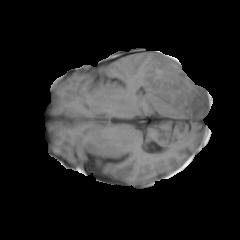glioma: (132, 54, 210, 117)
